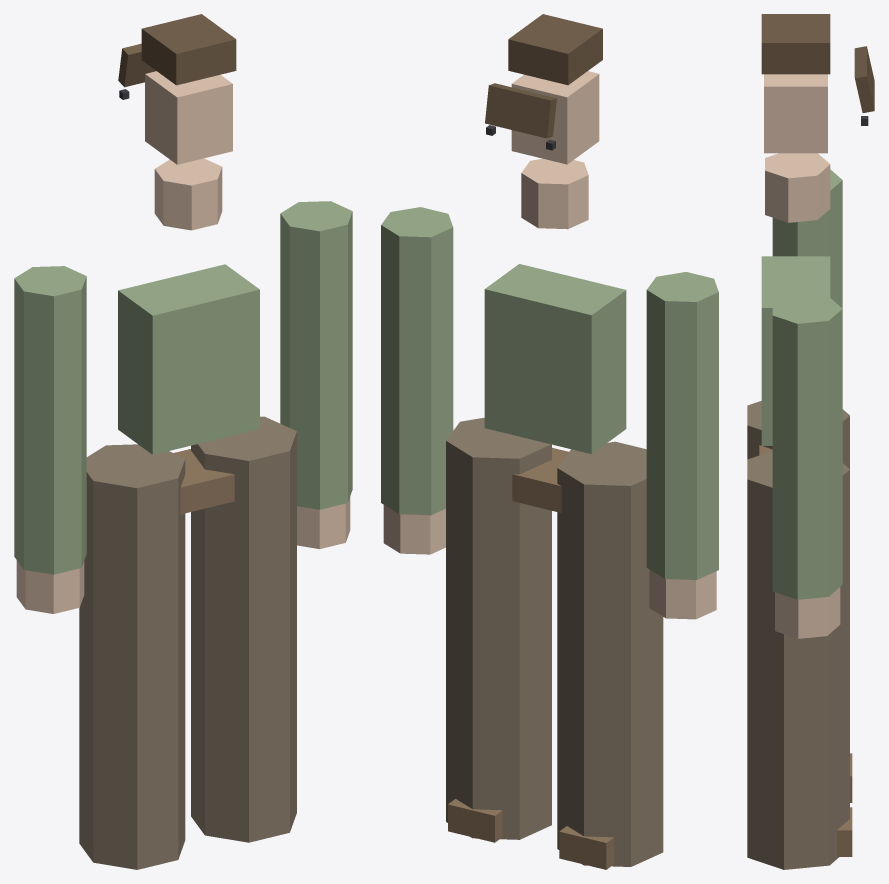
File: villageois.glb
3 renders of one model, left to right at view 1: azimuth 30°, elevation 25°; view 2: azimuth 150°, elevation 25°; view 3: azimuth 270°, elevation 25°, orthographic.
Visible parts, largest first — view 1: Cylinder, Cylinder.001, Cube.002, Cylinder.002, Cylinder.004, Cube.004, Cube.005, Cylinder.006, Cylinder.003, Cube.003, Cylinder.005, Cube.006; view 2: Cylinder, Cylinder.001, Cube.002, Cylinder.002, Cylinder.004, Cube.005, Cube.004, Cylinder.006, Cube.006, Cylinder.003, Cylinder.005, Cube.003 (+2 smaller); view 3: Cylinder.001, Cylinder.004, Cube.004, Cube.002, Cylinder.006, Cube.005, Cylinder.002, Cylinder.005, Cylinder, Cube.006, Cube.001.
Boxes of the visible parts, left/top/right/bottom form: Cylinder: left=79, top=444, right=185, bottom=869; Cylinder.001: left=191, top=416, right=296, bottom=842; Cube.002: left=118, top=264, right=259, bottom=454; Cylinder.002: left=14, top=266, right=86, bottom=574; Cylinder.004: left=280, top=201, right=352, bottom=509; Cube.004: left=145, top=71, right=232, bottom=164; Cube.005: left=141, top=14, right=236, bottom=85; Cylinder.006: left=154, top=158, right=222, bottom=230; Cylinder.003: left=16, top=560, right=84, bottom=613; Cube.003: left=174, top=449, right=234, bottom=514; Cylinder.005: left=297, top=497, right=350, bottom=549; Cube.006: left=118, top=43, right=155, bottom=87; Cylinder: left=557, top=441, right=663, bottom=866; Cylinder.001: left=446, top=417, right=551, bottom=839; Cube.002: left=484, top=264, right=626, bottom=454; Cylinder.002: left=646, top=272, right=718, bottom=579; Cylinder.004: left=381, top=207, right=453, bottom=515; Cube.005: left=508, top=14, right=602, bottom=85; Cube.004: left=511, top=71, right=599, bottom=164; Cylinder.006: left=521, top=158, right=588, bottom=229; Cube.006: left=485, top=83, right=556, bottom=138; Cylinder.003: left=649, top=569, right=716, bottom=619; Cylinder.005: left=383, top=505, right=445, bottom=554; Cube.003: left=512, top=447, right=568, bottom=512; Cylinder.001: left=747, top=451, right=849, bottom=869; Cylinder.004: left=772, top=293, right=842, bottom=599; Cube.004: left=764, top=74, right=827, bottom=153; Cube.002: left=761, top=256, right=830, bottom=445; Cylinder.006: left=765, top=153, right=830, bottom=222; Cube.005: left=761, top=14, right=830, bottom=74; Cylinder.002: left=772, top=169, right=842, bottom=308; Cylinder.005: left=775, top=587, right=840, bottom=638; Cylinder: left=747, top=401, right=849, bottom=468; Cube.006: left=854, top=46, right=874, bottom=112; Cube.001: left=837, top=807, right=852, bottom=856.
Size of the model in its own units: 0.7662 by 1.78 by 0.2593.
